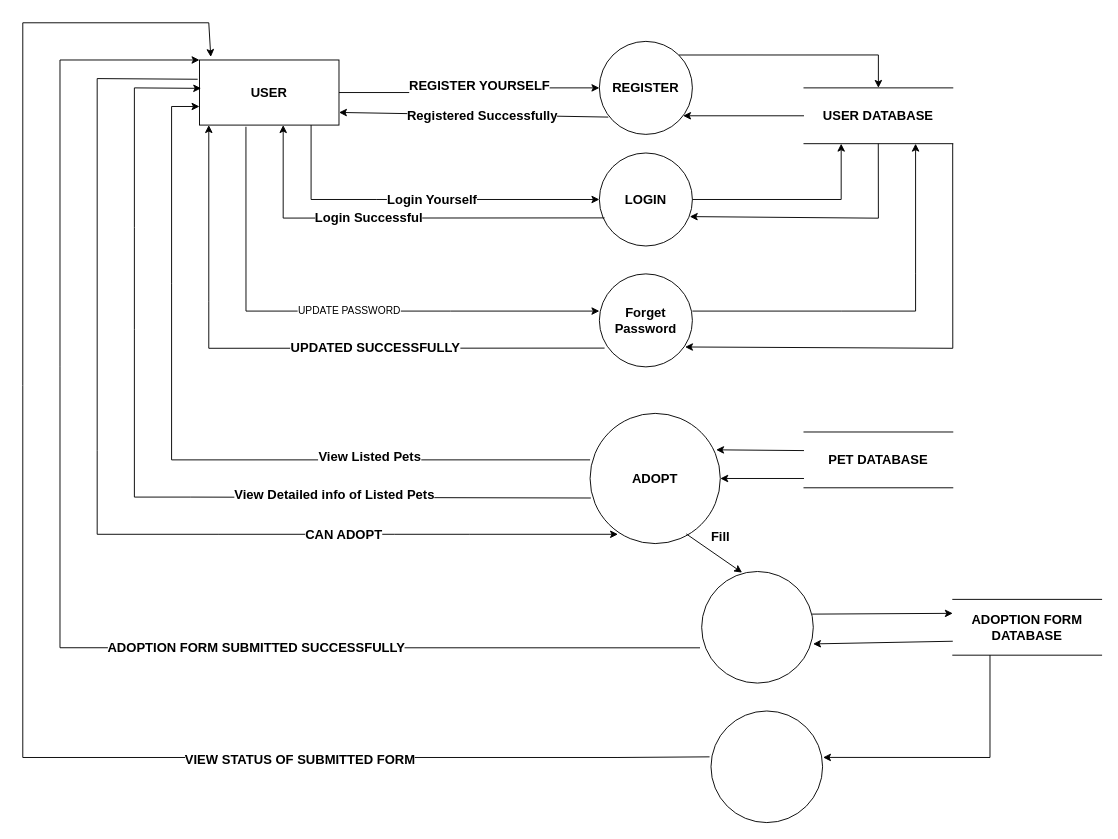
The diagram is 1118 pixels wide and 839 high, and some of its shapes have lost their labels. The shapes that lost their labels are listed below. From the top down, each one's centre as x and y in pixels, then its label:
(757,627): FILL ADOPTION FORM
(766,766): VIEW SUBMITTED APPLICATION
